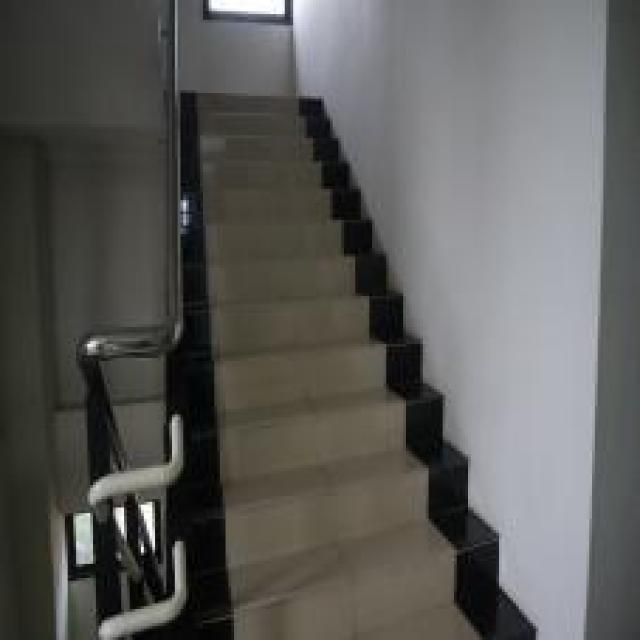upstair: (196, 69, 444, 638)
